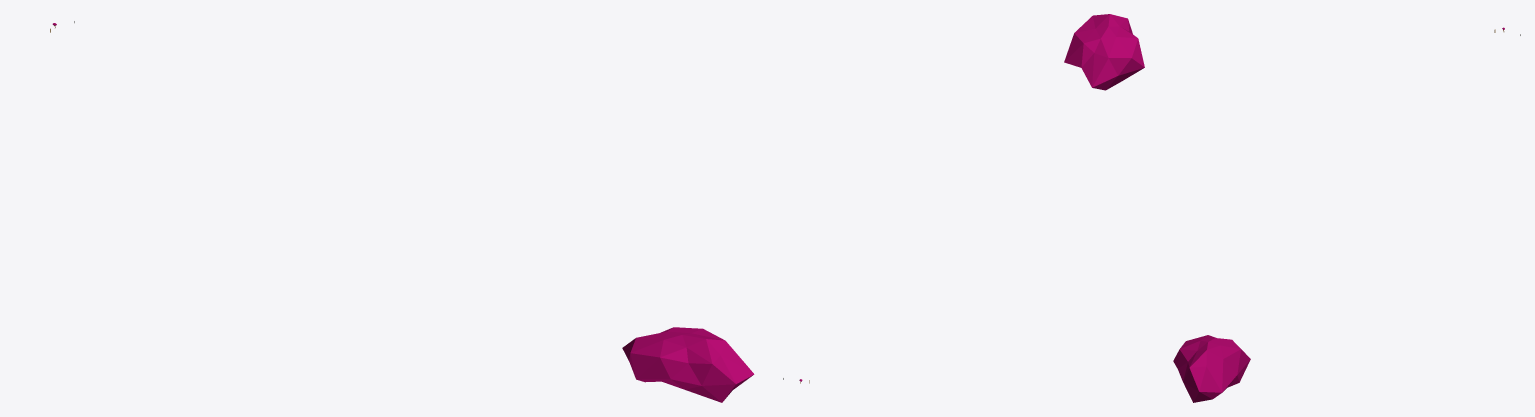
File: tori.glb
3 views of the same model, side by side, from view 1: azimuth 30°, elevation 25°; view 2: azimuth 150°, elevation 25°; view 3: azimuth 330°, elevation 25° (orthographic). The views are drawn at different scales.
Parts seen in each view (by area): view 1: SakuraTree_2_Leaves; view 2: SakuraTree_2_Leaves; view 3: SakuraTree_2_Leaves.
Boxes of the visible parts, x1,y1,x2,y2 form: SakuraTree_2_Leaves: [622, 327, 754, 402]; SakuraTree_2_Leaves: [1064, 14, 1144, 90]; SakuraTree_2_Leaves: [1173, 335, 1250, 402].
Bounding box in the file's own units: 16971 × 4494 × 82313.
Materials: 2 (2 with a texture image).
